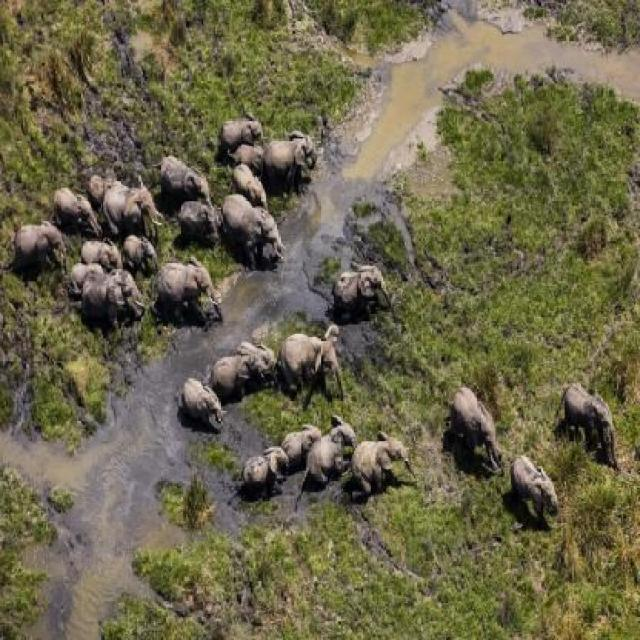elephant: (448, 376, 504, 475), (227, 186, 293, 268), (559, 374, 623, 451), (157, 262, 237, 322), (103, 168, 166, 242), (349, 434, 411, 506), (11, 212, 77, 276), (78, 266, 147, 326), (283, 323, 352, 380), (515, 438, 563, 518), (58, 180, 116, 242), (268, 117, 320, 181), (310, 418, 359, 479), (214, 101, 268, 150), (159, 147, 213, 193), (214, 349, 260, 402), (332, 258, 386, 302), (232, 164, 274, 216), (172, 374, 223, 411), (249, 442, 288, 488), (240, 336, 278, 376), (287, 420, 321, 463), (237, 138, 275, 176), (82, 238, 130, 268), (136, 224, 158, 268)
